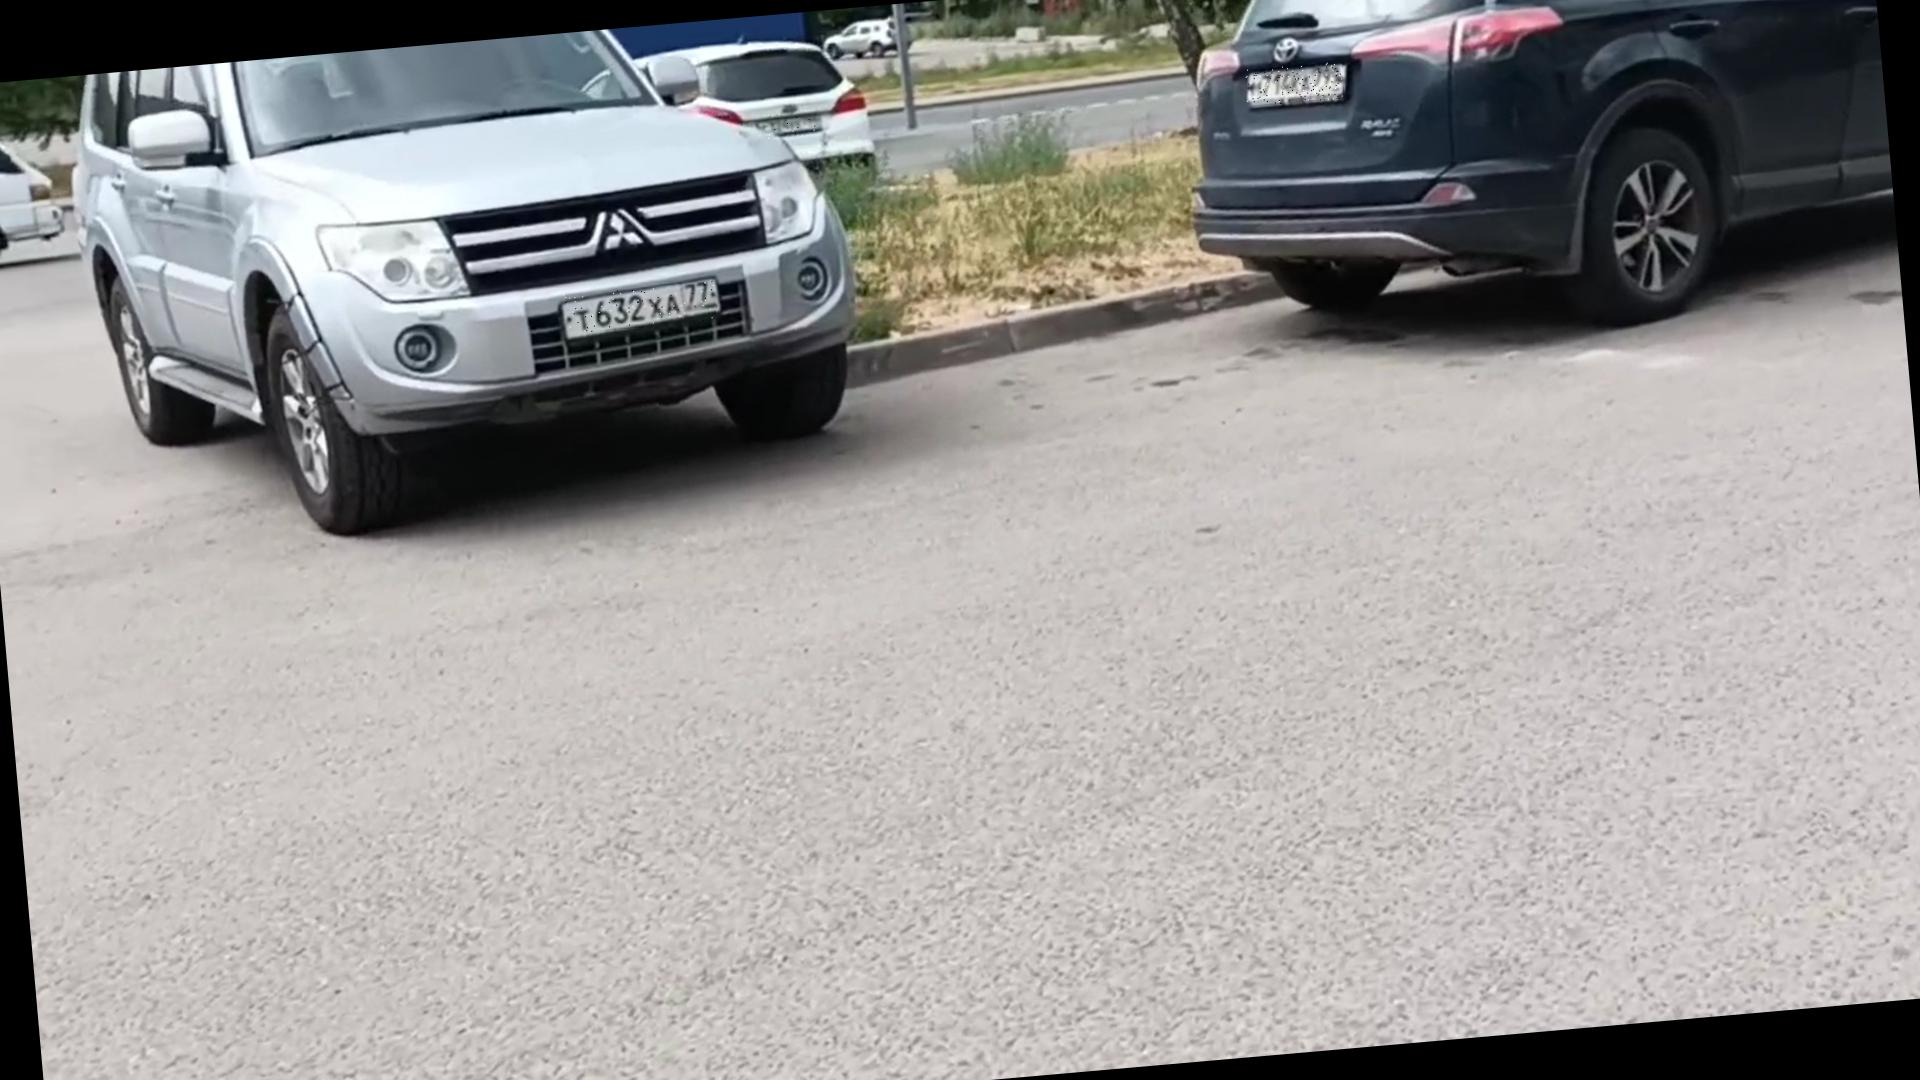plate: (567, 283, 719, 336), (1246, 63, 1347, 109), (760, 108, 819, 140)
